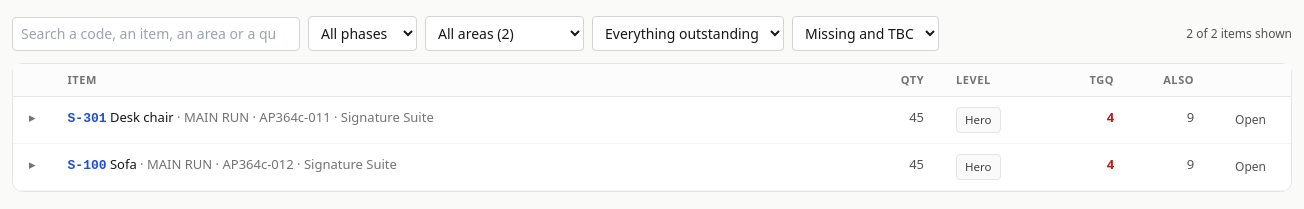
Scenario: InfillTable › A FILTER NARROWS WHAT IS LISTED AND CHANGES NO COUNT
In the search field named "Search what is outstanding": [156, 34] box [12,16,300,50], type "sofa"
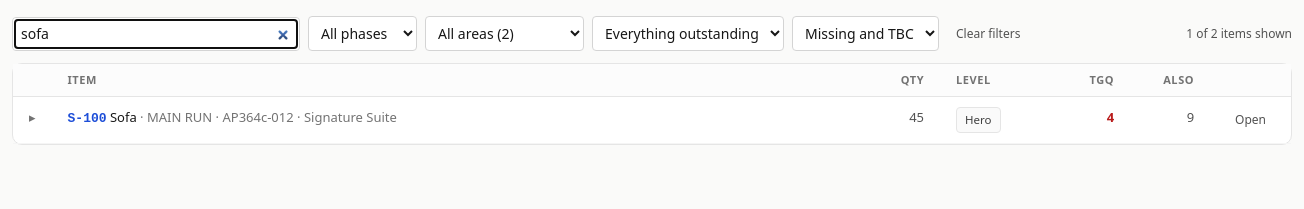
Expected: the text "4" is shown, [1107,108,1114,126]
Expected: the link "S-301" is gone
Expected: the text "1 of 2 items shown" is shown, [1186,26,1292,42]
